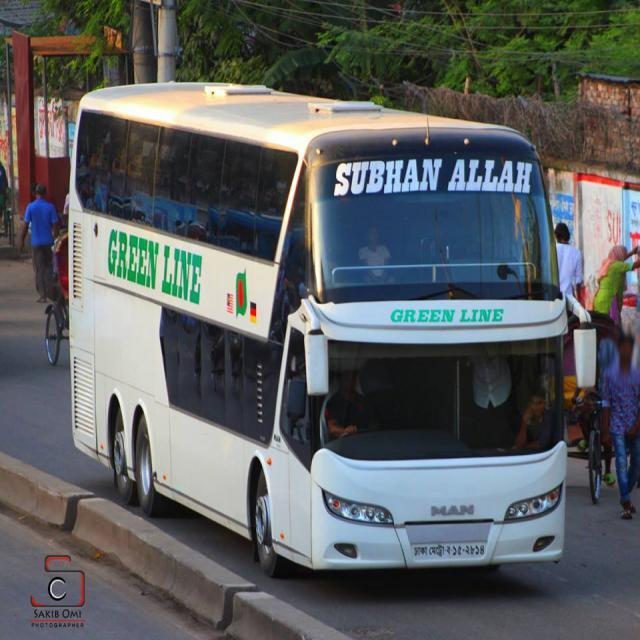Double decker: (67, 78, 570, 566)
